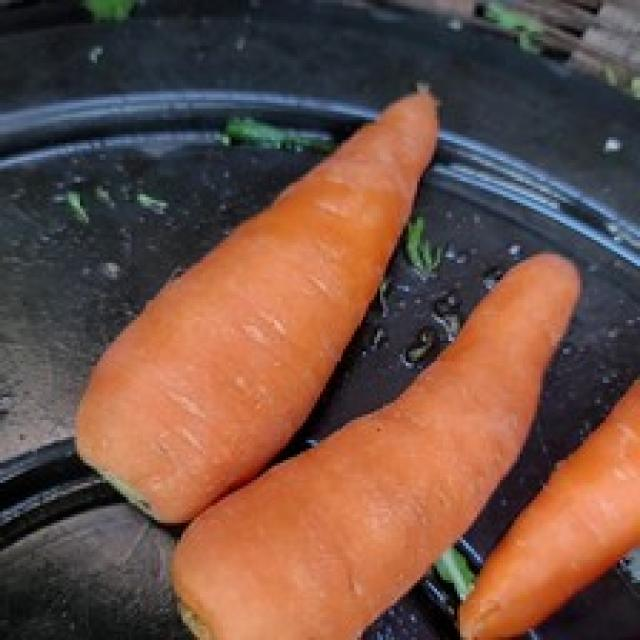Fresh_Carrot: (174, 246, 608, 640), (84, 90, 462, 498)
